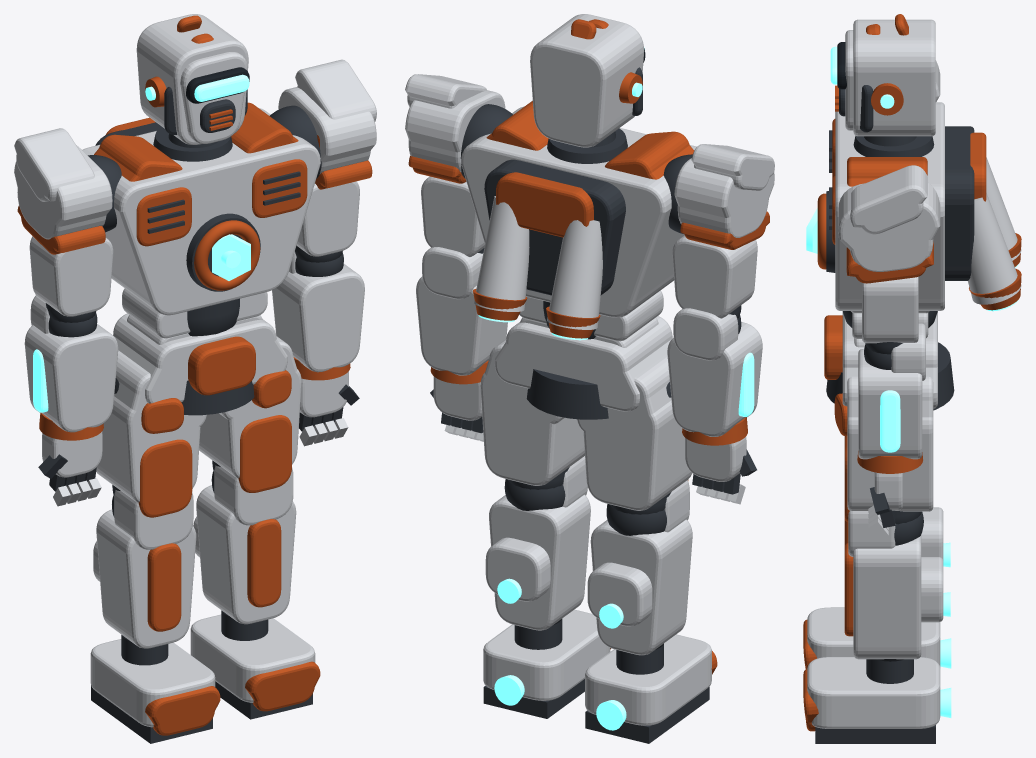
The model's file is vanguard-01.glb.
3 views of the same model, side by side, from view 1: azimuth 30°, elevation 25°; view 2: azimuth 150°, elevation 25°; view 3: azimuth 270°, elevation 25° (orthographic).
Visible parts, largest first — view 1: chest_plate, forearm_plate_r, forearm_plate_l, shin_plate_l, shin_plate_r, pelvis_plate, boot_l, helmet_shell, boot_r, upper_arm_plate_l, pauldron_l, thigh_plate_l (+48 smaller); view 2: chest_plate, helmet_shell, thigh_plate_l, pelvis_plate, shin_plate_r, shin_plate_l, thigh_plate_r, boot_l, forearm_plate_l, boot_r, back_unit, forearm_plate_r (+41 smaller); view 3: helmet_shell, boot_r, shin_plate_r, chest_plate, pauldron_r, forearm_plate_r, back_unit, pauldron_cap_r, thigh_plate_r, upper_arm_plate_r, thruster_r, boot_l (+33 smaller).
Part boxes in pixels (box(x1,y1,x2,y2)): chest_plate: box(82, 108, 320, 315); forearm_plate_r: box(272, 264, 364, 372); forearm_plate_l: box(24, 324, 118, 432); shin_plate_l: box(96, 509, 196, 648); shin_plate_r: box(196, 485, 296, 624); pelvis_plate: box(113, 313, 287, 403); boot_l: box(90, 639, 215, 727); helmet_shell: box(136, 14, 248, 144); boot_r: box(190, 614, 315, 702); upper_arm_plate_l: box(29, 236, 113, 316); pauldron_l: box(14, 145, 112, 239); thigh_plate_l: box(96, 396, 200, 502); chest_plate: box(461, 106, 696, 317); helmet_shell: box(530, 14, 644, 147); thigh_plate_l: box(583, 400, 692, 510); pelvis_plate: box(494, 316, 672, 411); shin_plate_r: box(489, 494, 590, 630); shin_plate_l: box(590, 519, 692, 655); thigh_plate_r: box(480, 372, 584, 485); boot_l: box(585, 634, 711, 725); forearm_plate_l: box(667, 322, 762, 436); boot_r: box(483, 609, 610, 700); back_unit: box(484, 159, 625, 295); forearm_plate_r: box(416, 276, 507, 375); helmet_shell: box(853, 19, 935, 136); boot_r: box(807, 657, 940, 728); shin_plate_r: box(853, 535, 921, 659); chest_plate: box(835, 102, 944, 310); pauldron_r: box(838, 182, 940, 271); forearm_plate_r: box(858, 349, 922, 459); back_unit: box(945, 126, 974, 280); pauldron_cap_r: box(850, 165, 927, 234); thigh_plate_r: box(847, 417, 933, 511); upper_arm_plate_r: box(862, 276, 918, 343); thruster_r: box(968, 193, 1021, 304); boot_l: box(807, 607, 940, 667).
Size of the model in its own units: 1.05 by 2.07 by 0.5961.
